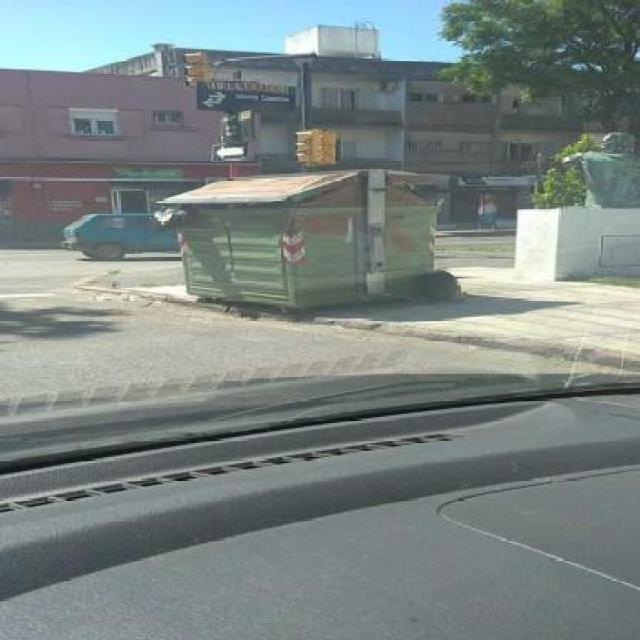garbage: (151, 200, 224, 232)
